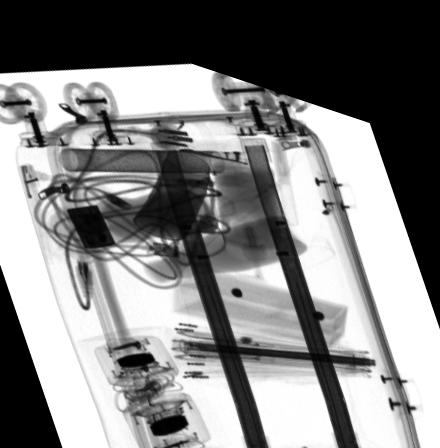Lighter: (65, 198, 115, 243)
